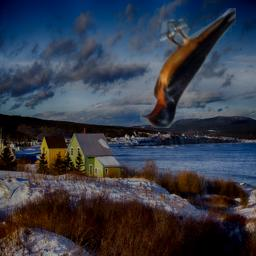Swallow: (140, 8, 236, 128)
